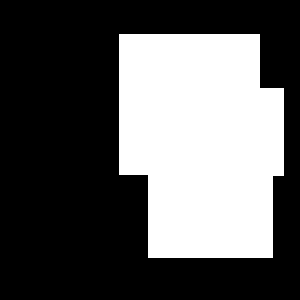circle: (119, 34, 260, 175), (148, 133, 273, 258), (196, 88, 284, 176)
triangle: (216, 178, 252, 214)
